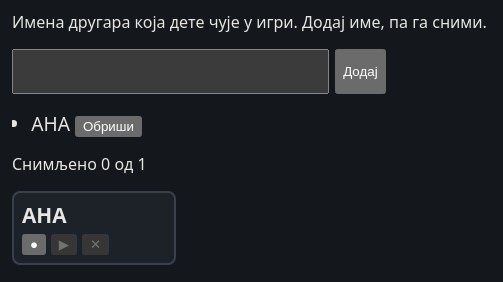
it: Imena › a failed clip delete shows a line
Click the button "Обриши". click: (108, 126)
box: [75,116,142,137]
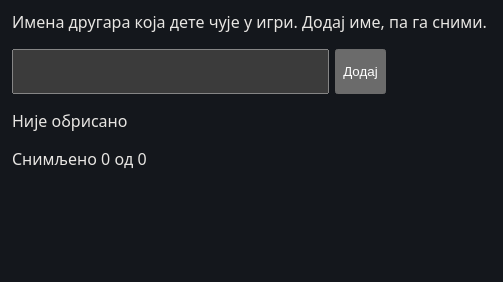
Now the message reads "Није обрисано", box [12,110,128,132]
